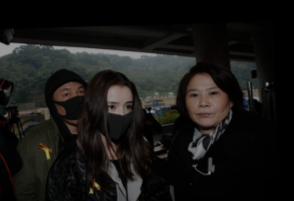with_mask: (98, 99, 136, 143), (52, 84, 88, 128)
without_mask: (183, 85, 232, 128)
